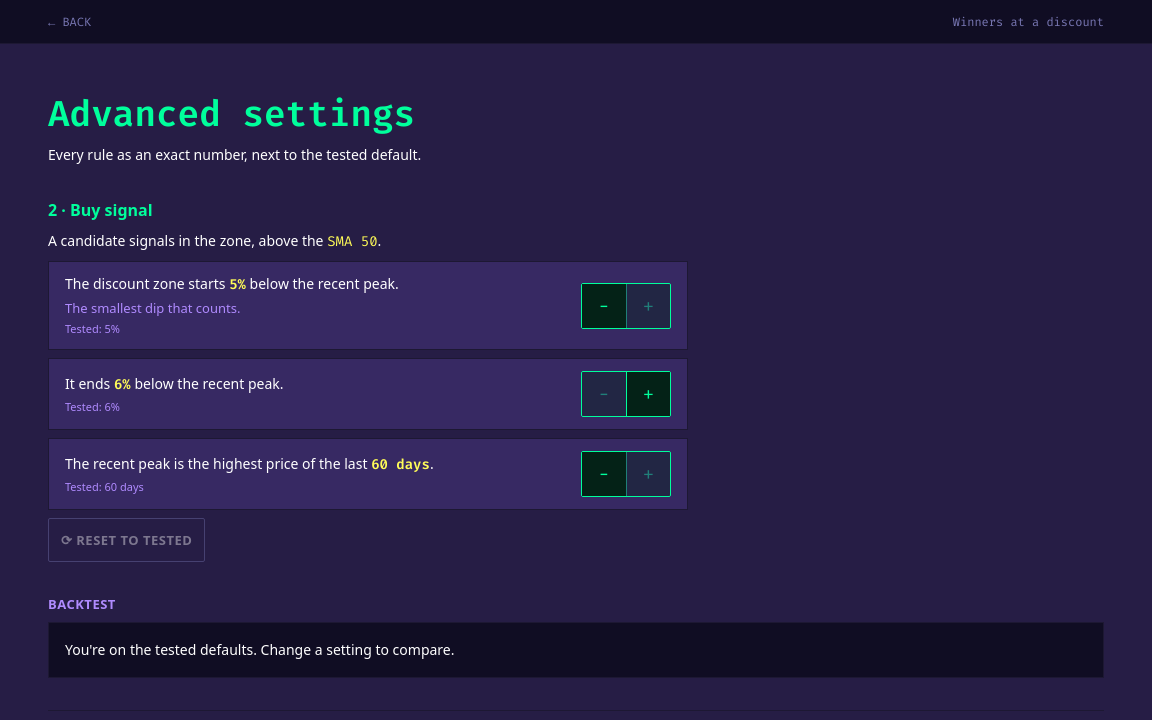
Test: Advanced › puts every value back with Reset to tested
Click the button named "Decrease": point(604, 474) [582, 452, 626, 496]
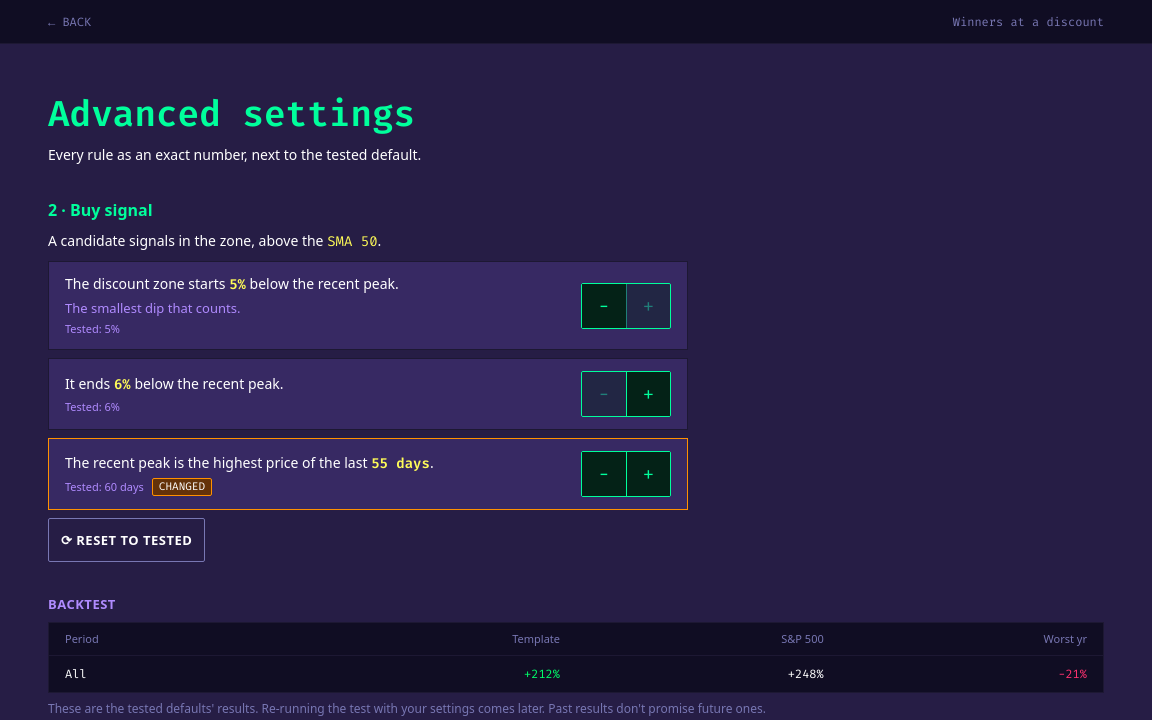
Click the button "⟳ Reset to tested": point(127, 540) [48, 518, 205, 562]
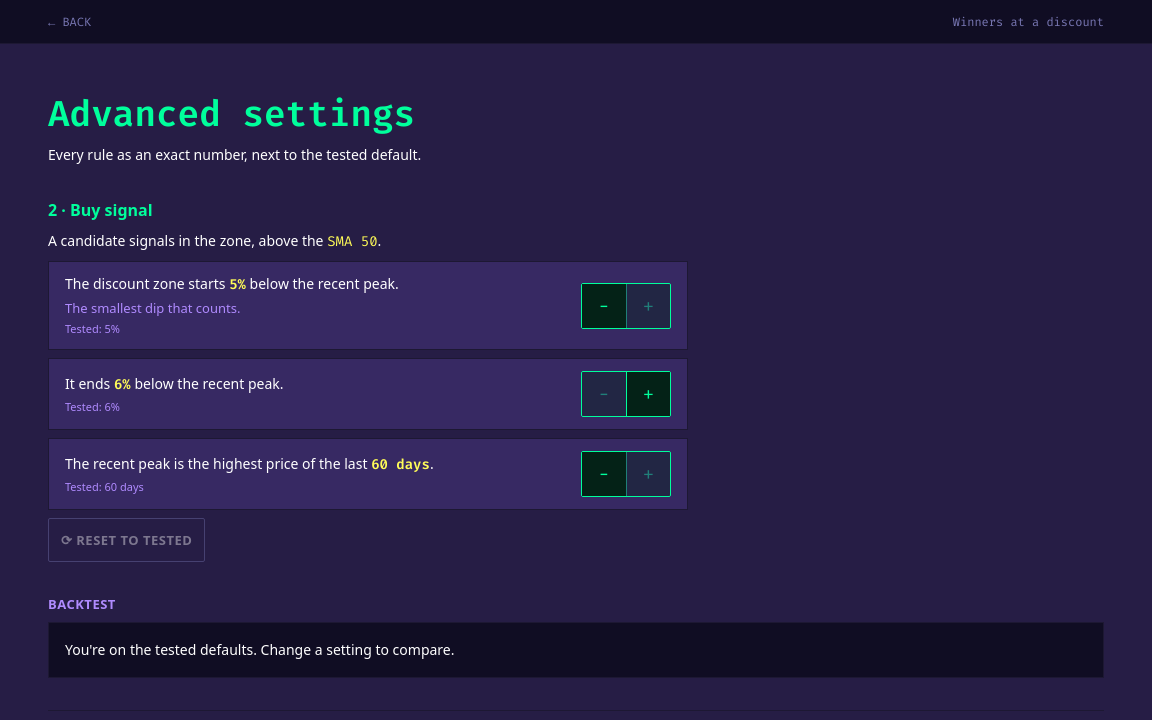
Now the text "60 days" is shown, box [371, 454, 430, 474]
Now the text "CHANGED" is gone
